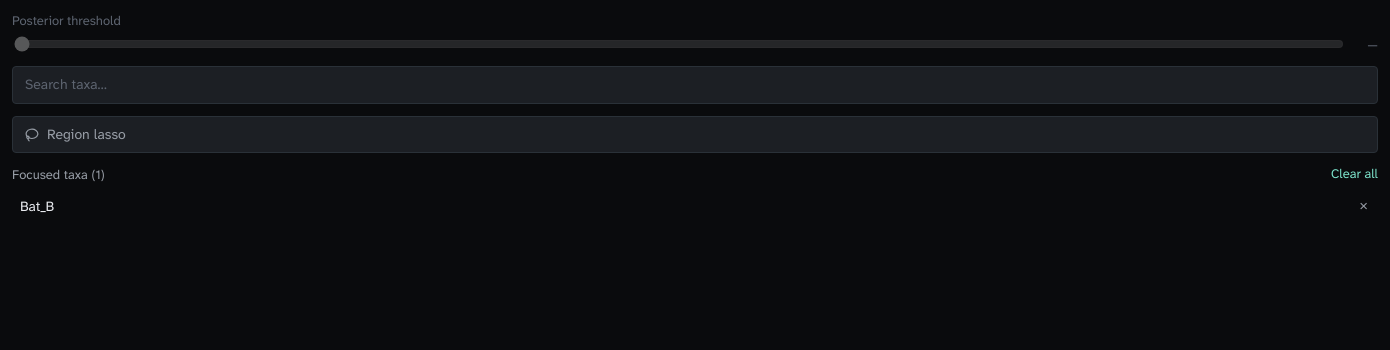
FilterPanel › plain click solos the result and sets the tree scroll target
Type "Bat" into the search field with test id "filter-search-input" at [695, 85], box [12,66,1378,104]
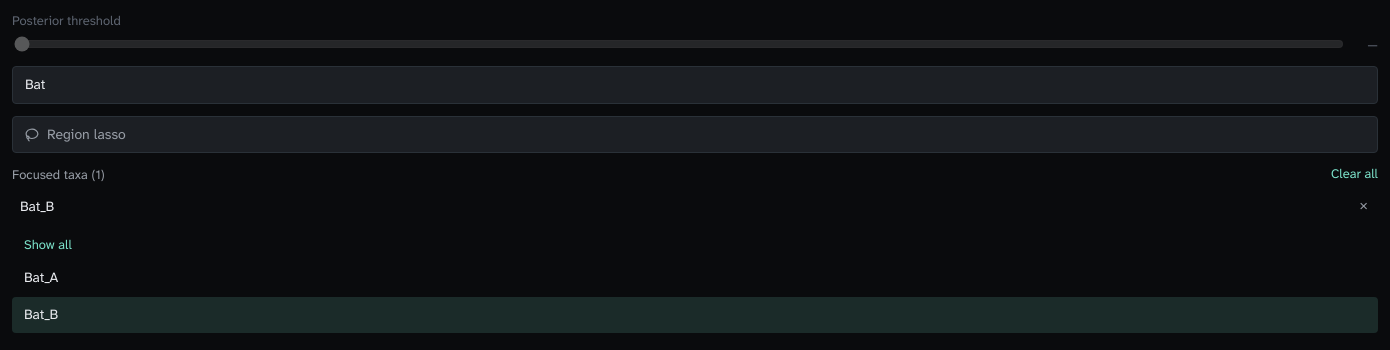
Click the option with test id "filter-result-Bat_A" at [41, 277], box [12,260,1378,295]
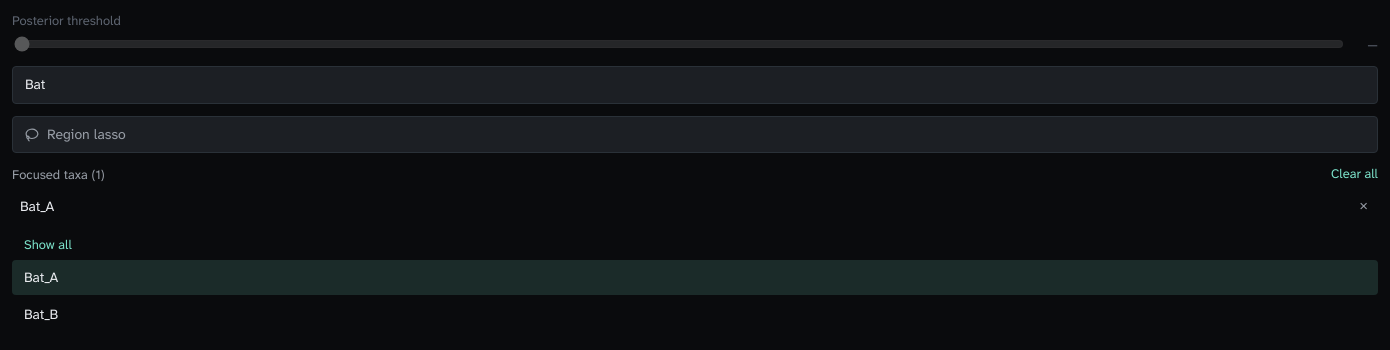
Expected: the text "Bat_A" below "Focused taxa (" is shown, [20,197,54,215]
